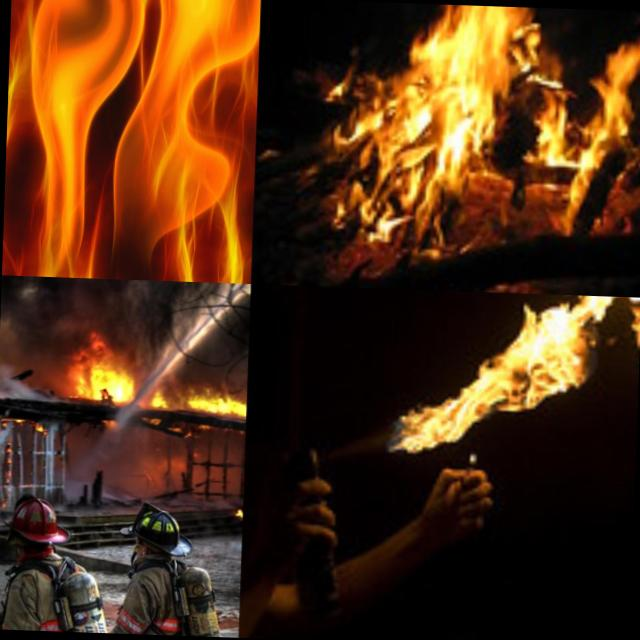fire: (317, 0, 640, 240), (1, 0, 260, 284), (390, 289, 640, 455), (59, 332, 144, 407), (157, 386, 247, 454), (0, 405, 47, 449)
smoke: (0, 275, 200, 355)
